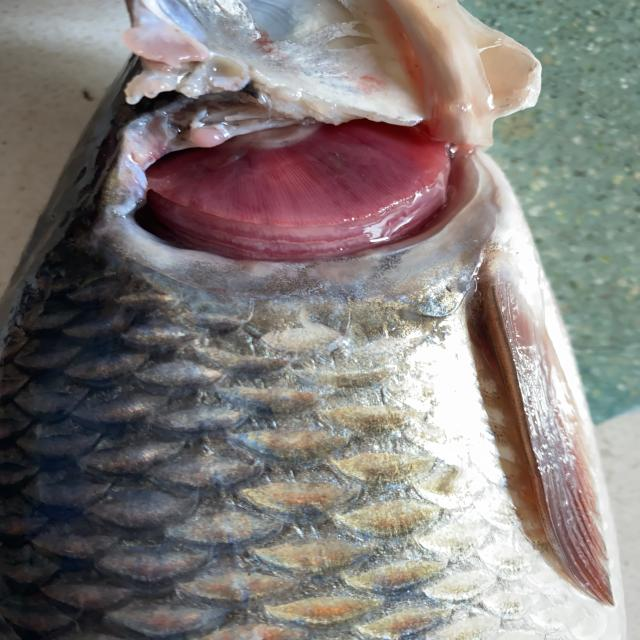Fresh: (91, 98, 490, 265)
